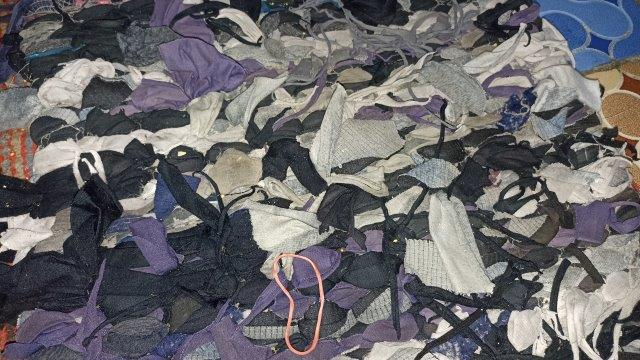karet: (273, 253, 323, 355)
